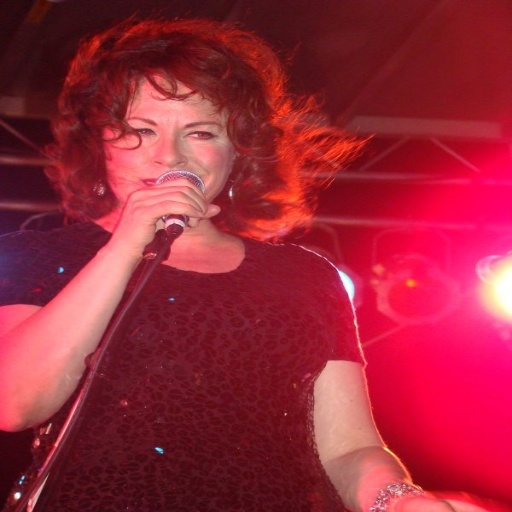hand: (82, 183, 230, 253), (389, 492, 492, 511)
